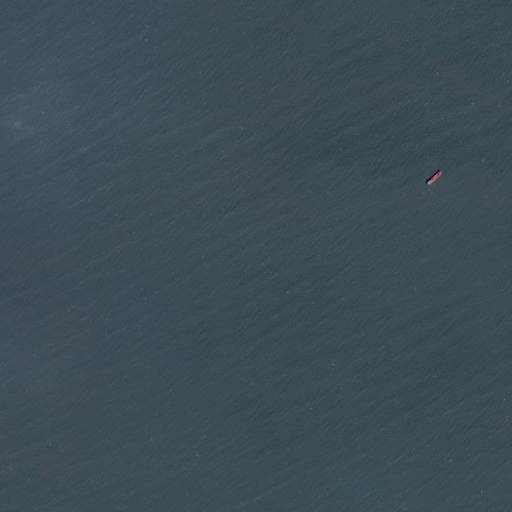ship: (423, 168, 445, 188)
